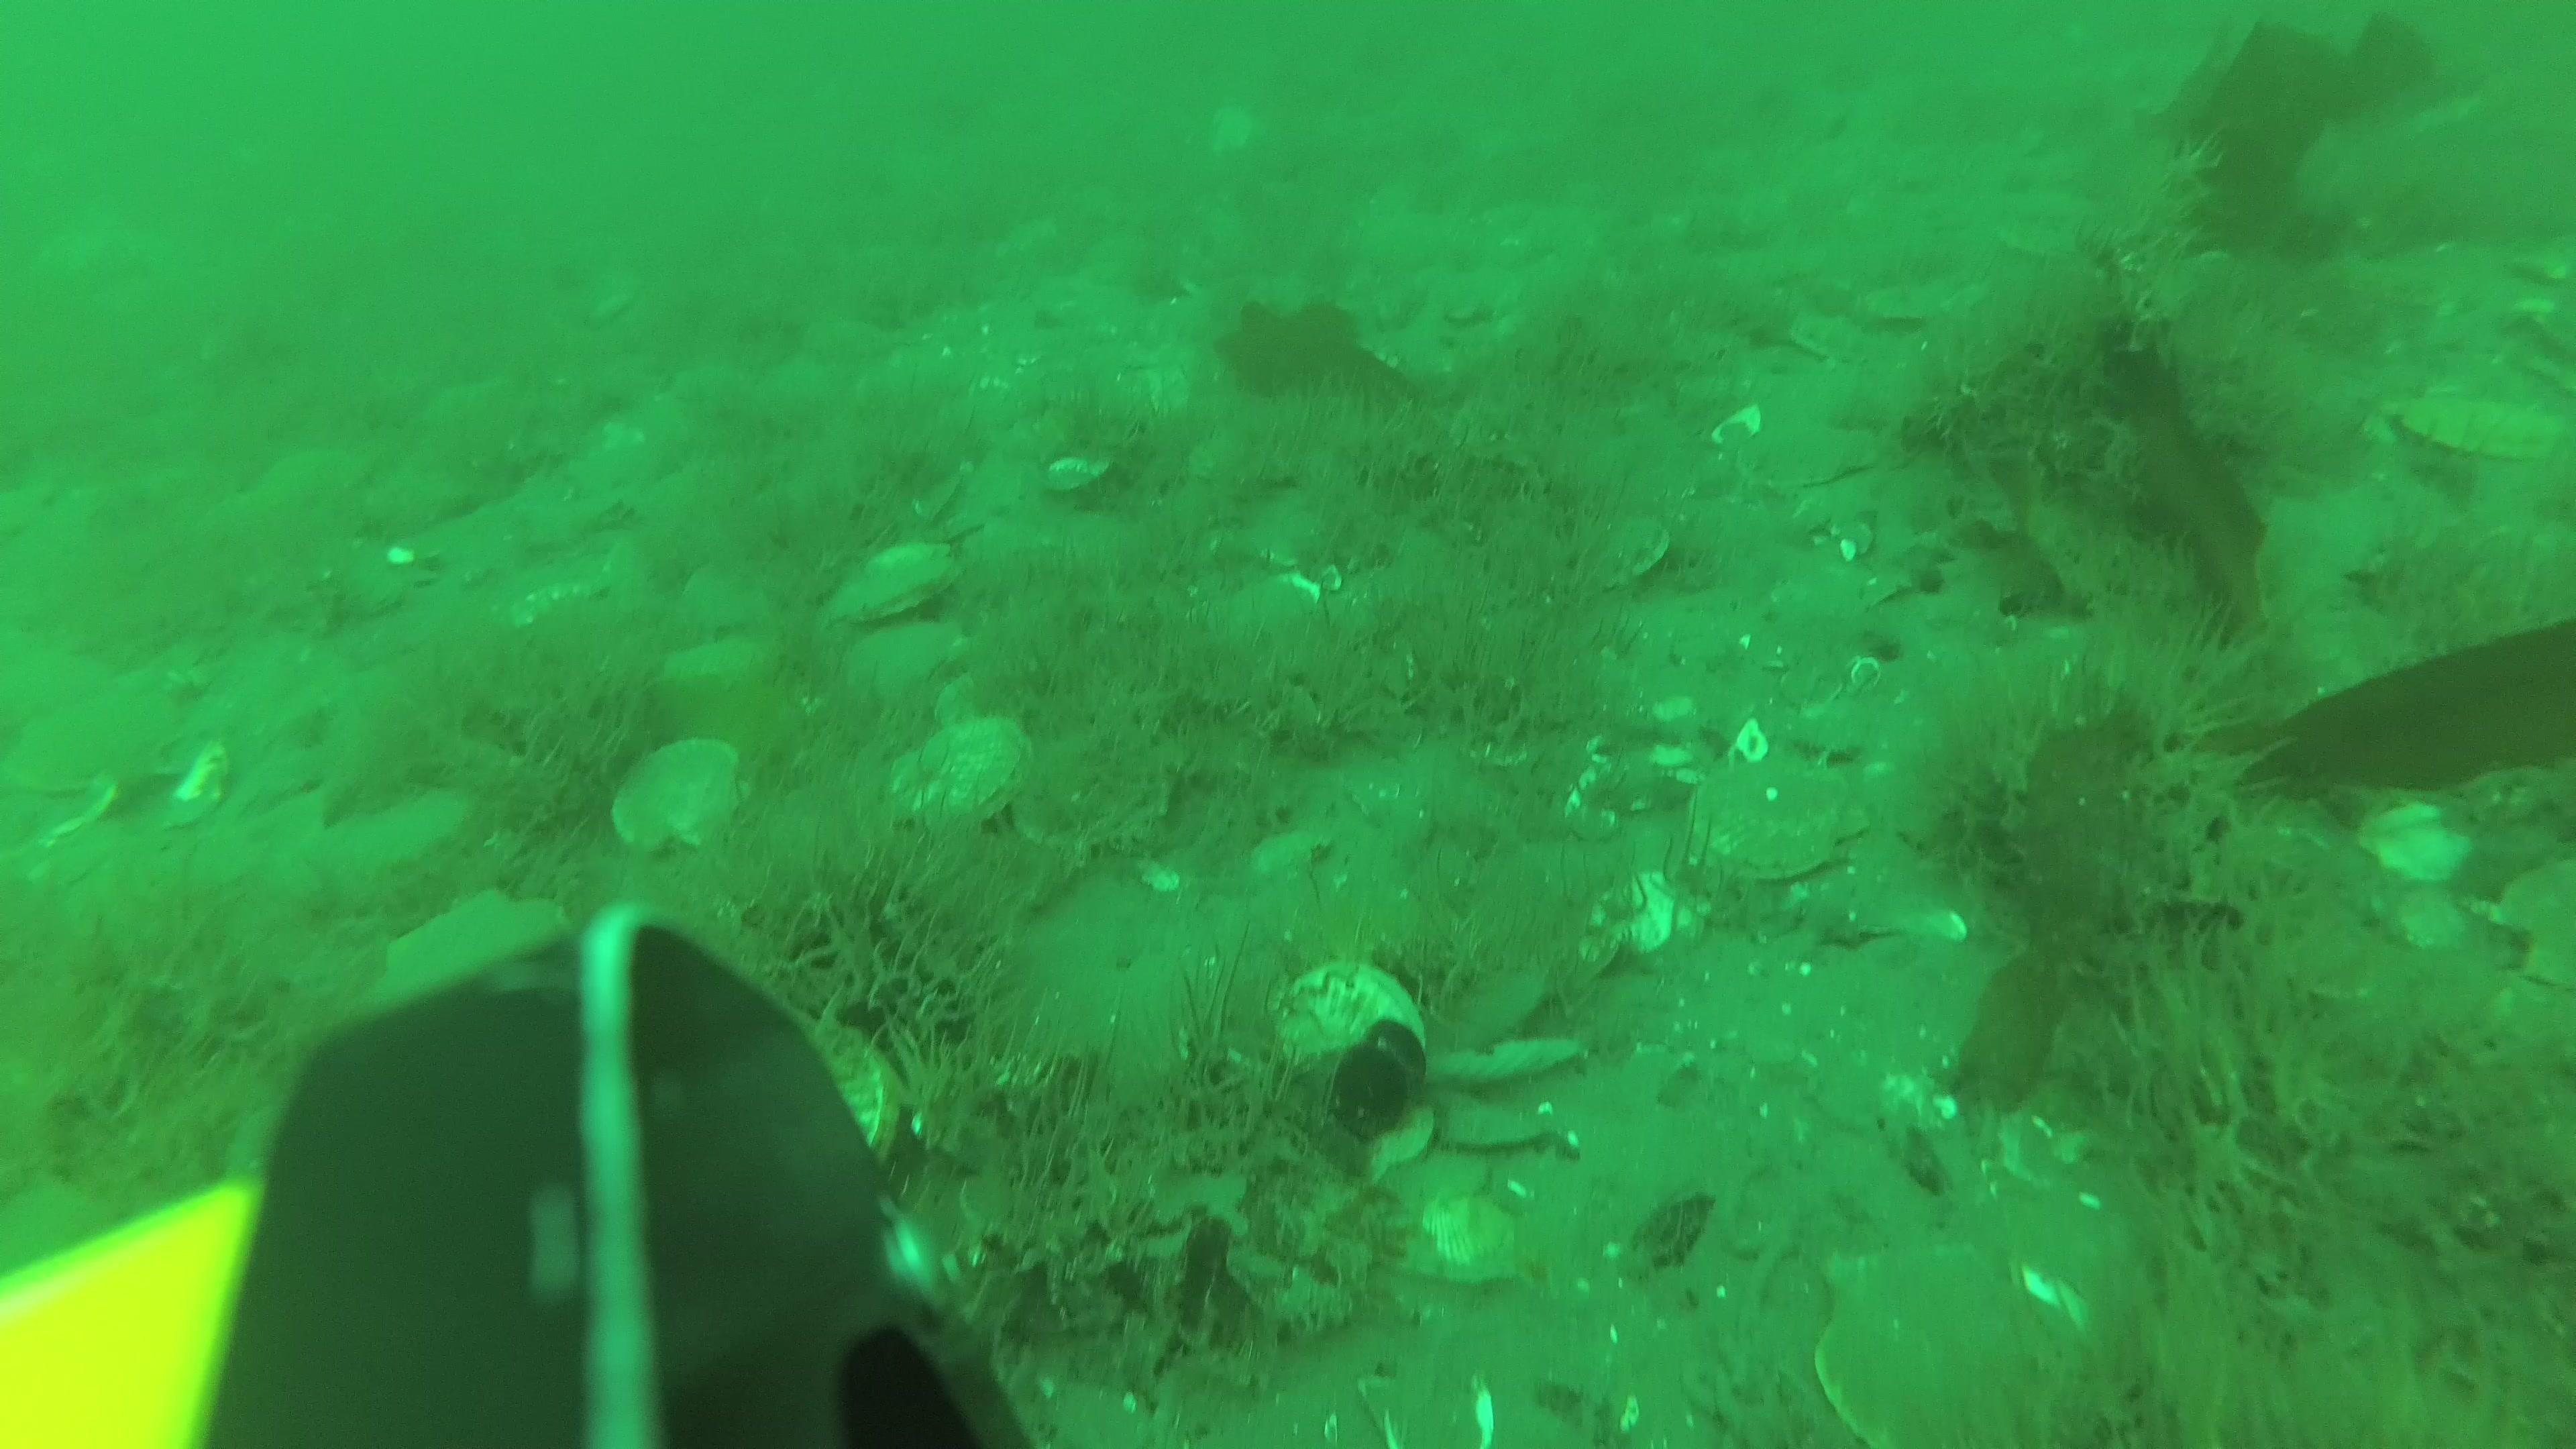scallop: (1821, 1244, 2059, 1449), (1691, 743, 1867, 888), (11, 667, 172, 801), (610, 747, 759, 869), (892, 708, 1040, 830), (327, 784, 472, 893), (2396, 380, 2564, 467), (830, 538, 961, 625), (1737, 414, 1874, 497), (847, 621, 966, 711), (669, 632, 780, 704), (1582, 510, 1679, 591)
